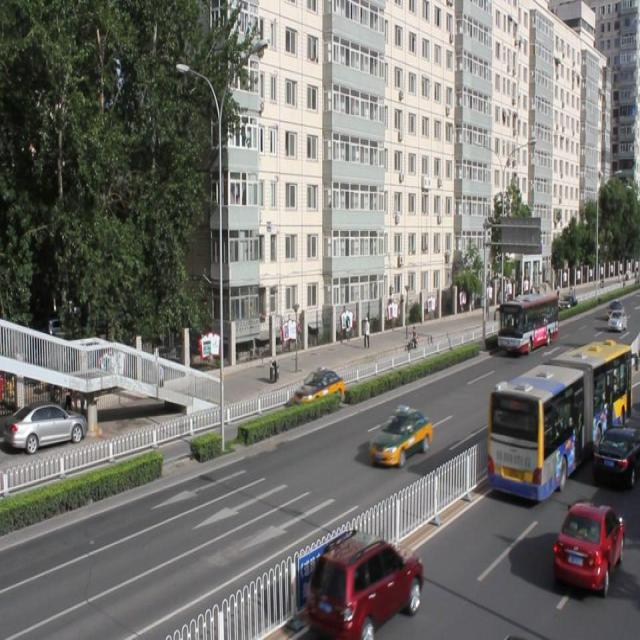car: (307, 529, 421, 634), (551, 499, 622, 594), (368, 404, 431, 466), (592, 424, 640, 481), (294, 366, 342, 406)
van: (485, 342, 629, 502), (498, 290, 558, 351)
